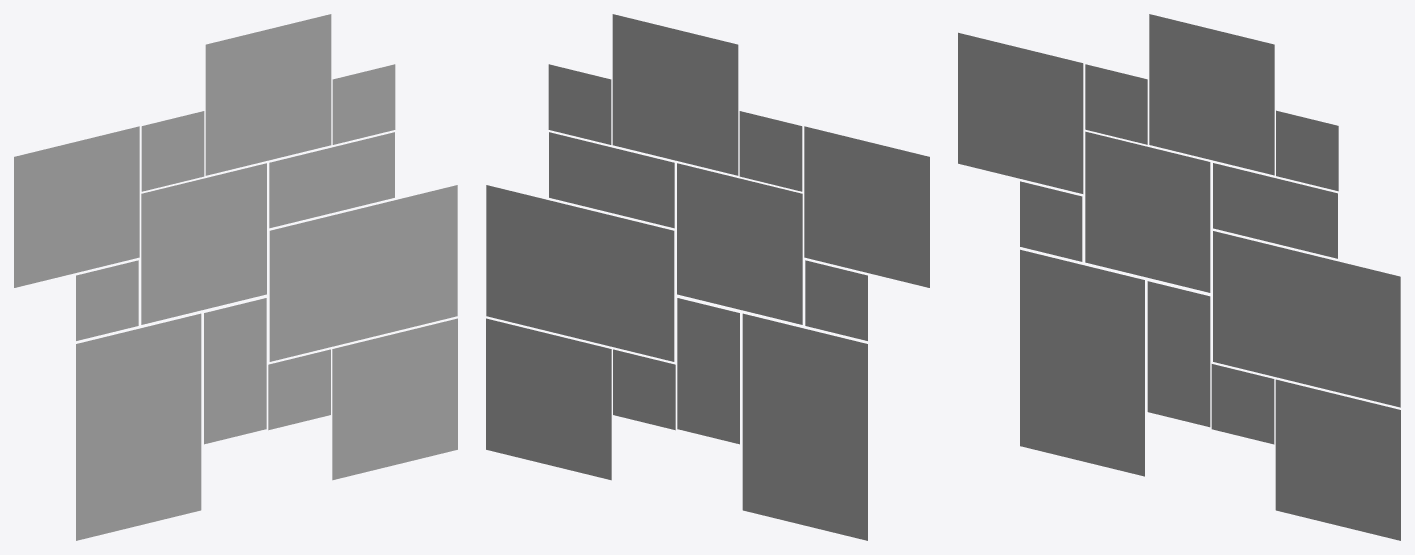
The model's file is versailles.gltf.
3 renders of one model, left to right at view 1: azimuth 30°, elevation 25°; view 2: azimuth 150°, elevation 25°; view 3: azimuth 330°, elevation 25°, orthographic.
Parts seen in each view (by area): view 1: versailles; view 2: versailles; view 3: versailles.
Part boxes in pixels (x1=…): versailles: x1=14, y1=14, x2=457, y2=540; versailles: x1=486, y1=14, x2=929, y2=540; versailles: x1=958, y1=14, x2=1400, y2=540.
Size of the model in its own units: 1438 by 1445 by 3.61e-13.
Materials: 12 (12 with a texture image).
